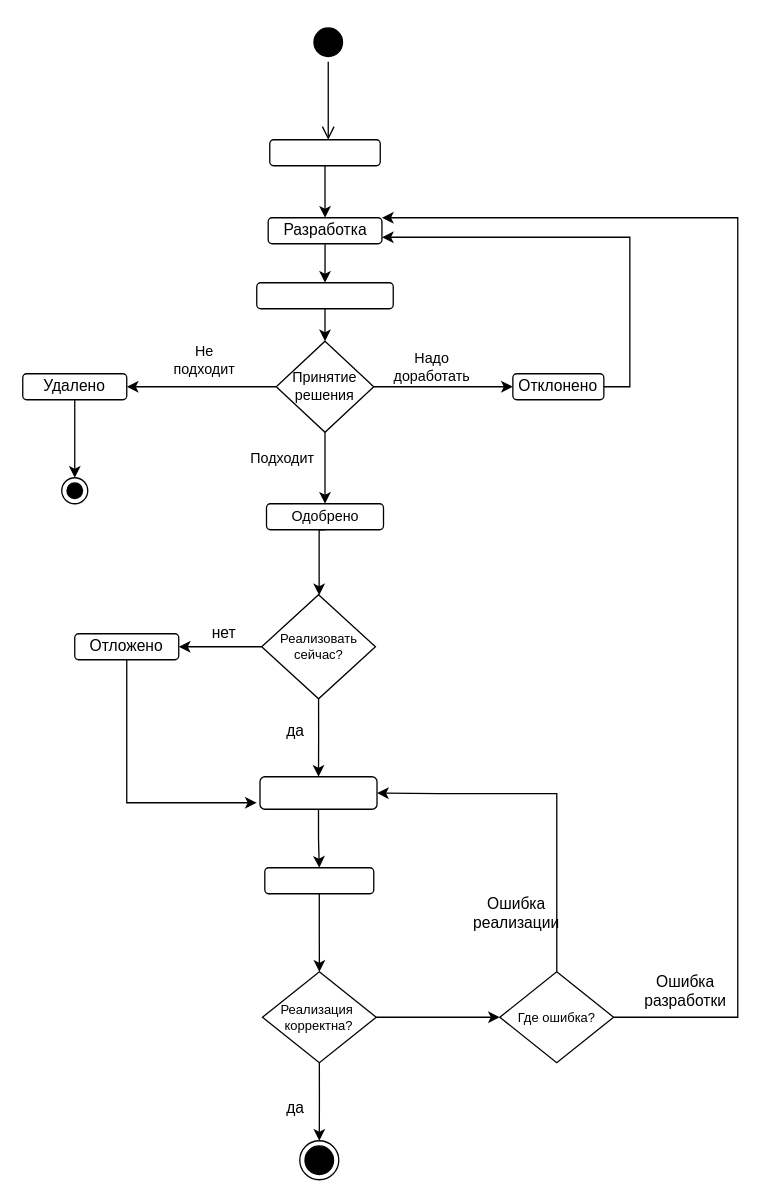
This 774x1203 diagram has some shape labels left out. Each missing label, with the centre of its shape:
"Подготовлено" belongs at [324,295].
"Предложено" belongs at [324,152].
"Проверено" belongs at [319,880].
"Реализовано" belongs at [318,792].
